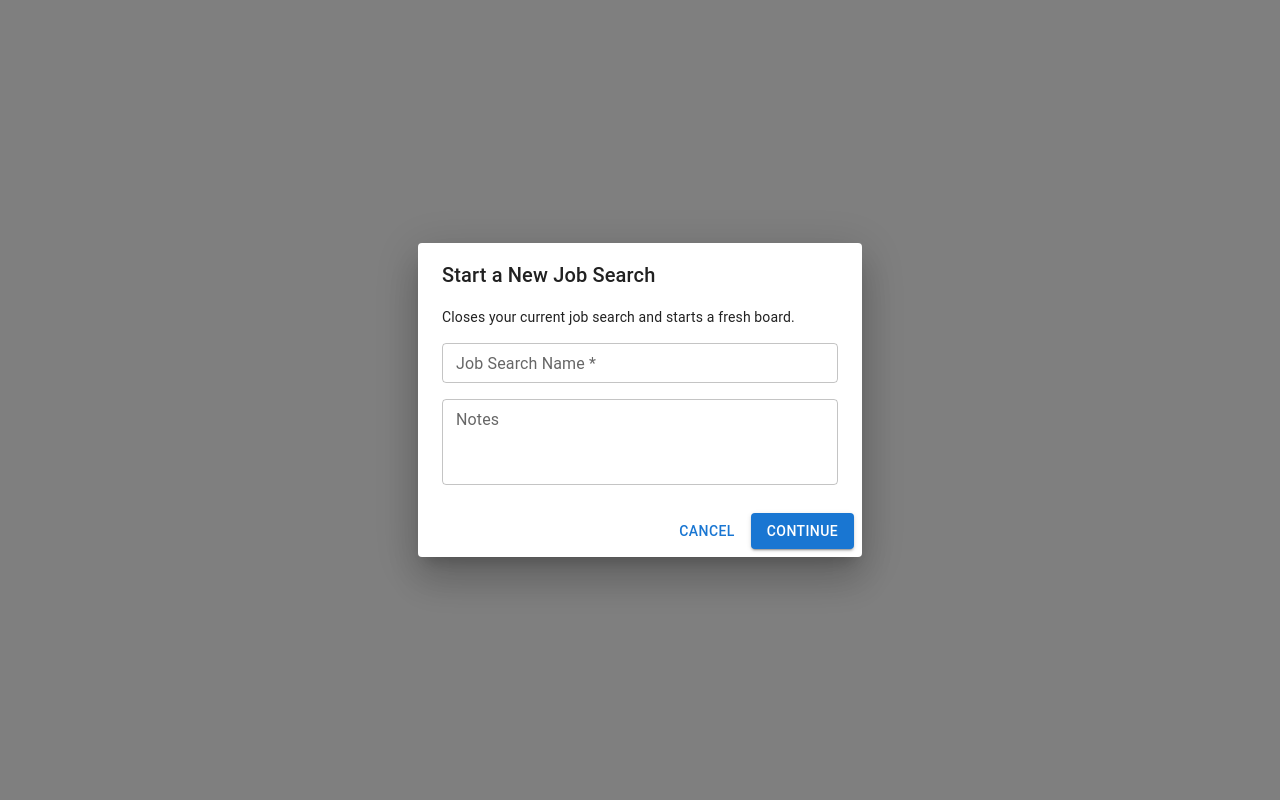
newSearchRoundDialog › clears the validation error after typing a name
Click the button "Continue" at point(802, 531), box [751, 513, 854, 549]
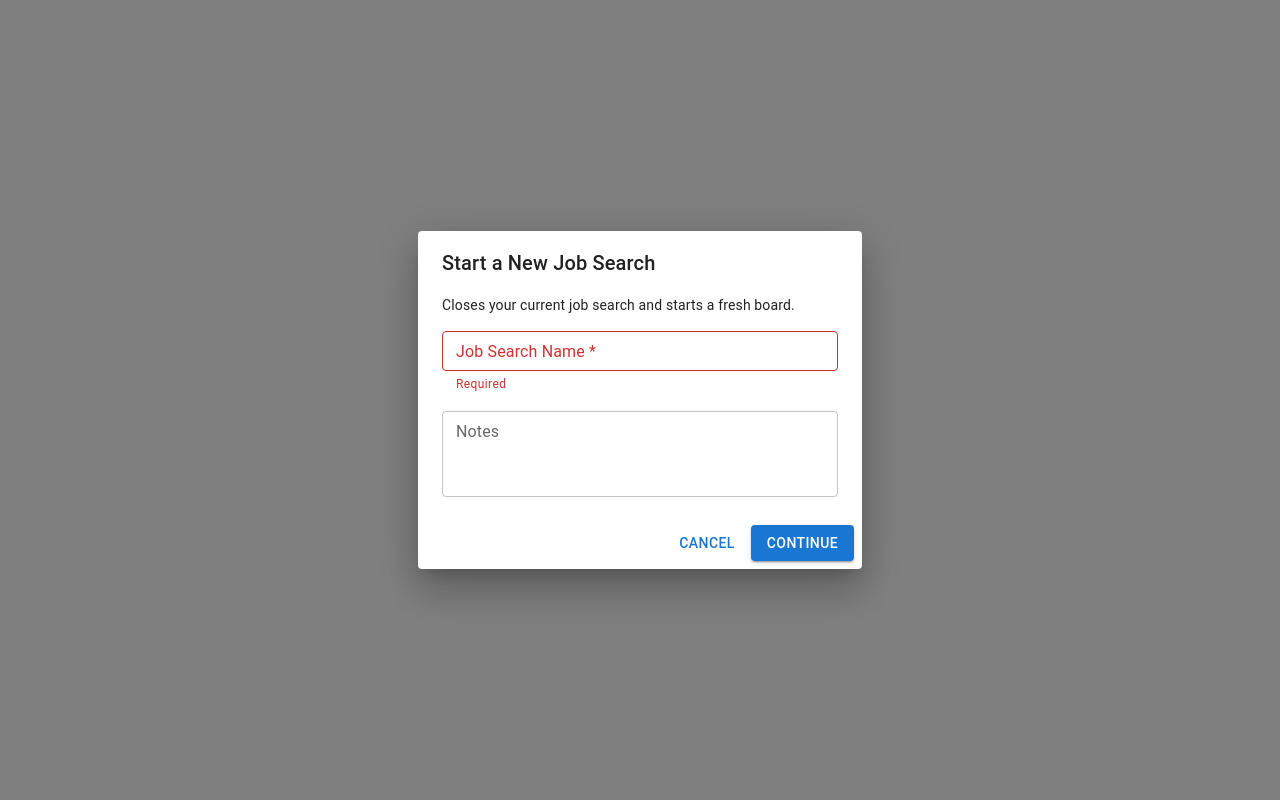
Now the text "Required" is shown, box [456, 377, 506, 391]
Type "Search 2" into the field labelled "Job Search Name *" at point(640, 351), box [442, 331, 838, 371]
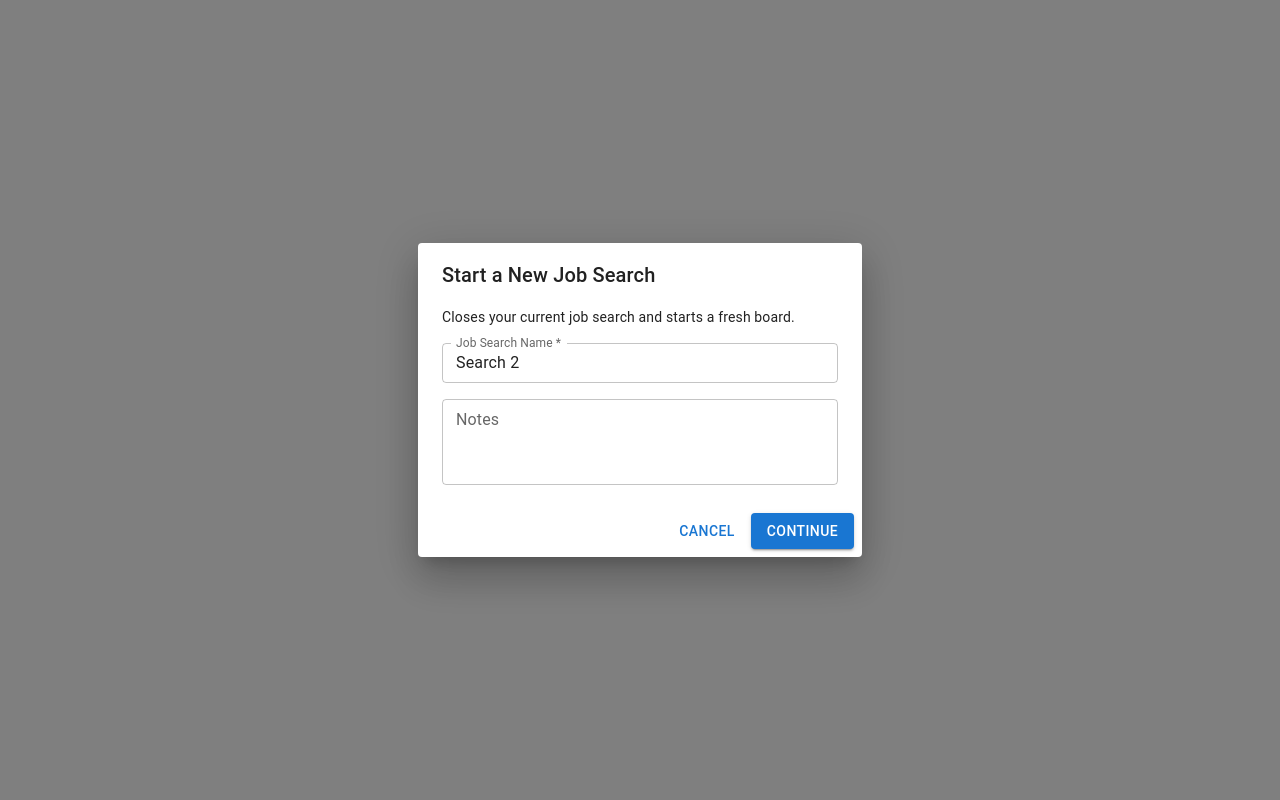
Now the text "Required" is gone
